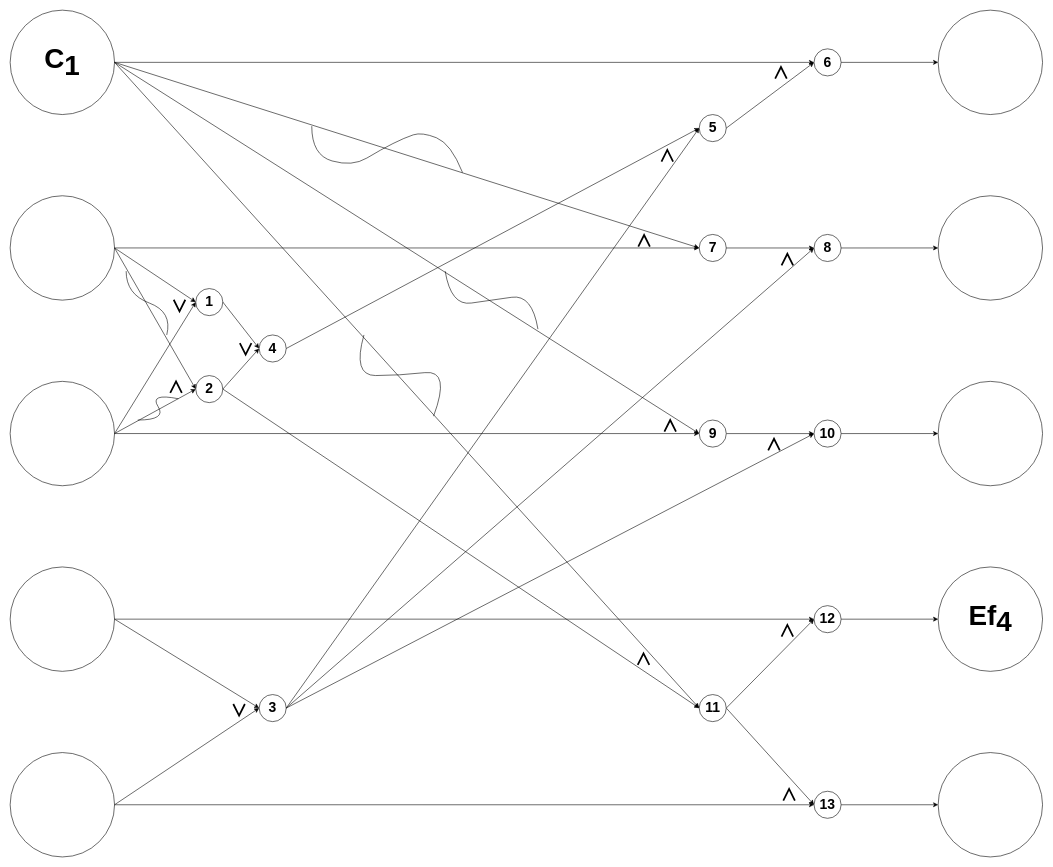
Image size: 1053x867. Some labels were removed from this diagram. Each missing label, with the centre of its shape:
C 2: (62,247)
C 3: (62,433)
C 4: (62,618)
C 5: (62,804)
Ef 1: (990,62)
Ef 2: (990,247)
Ef 3: (990,433)
Ef 5: (990,804)
